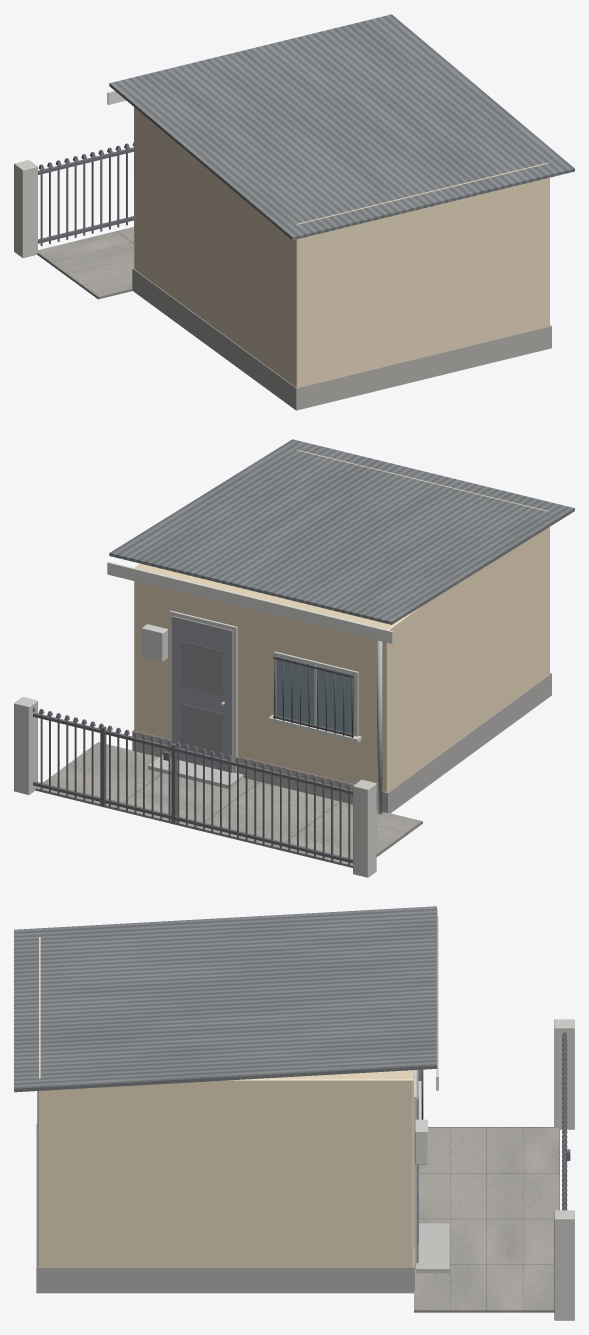
File: barrio.casa_humilde.fbx
3 renders of one model, top to bottom at view 1: azimuth 30°, elevation 25°; view 2: azimuth 150°, elevation 25°; view 3: azimuth 270°, elevation 25°, orthographic. The views are drawn at different scales.
Parts seen in each view (by area): view 1: Casa, Techo de zinc, Zocalo, Radier, Pilar.001; view 2: Casa, Techo de zinc, Radier, Zocalo, Puerta, Vidrio, Tapa del techo, Pilar.001, Pilar, Panel puerta.001, Panel puerta, Barra reja (+6 smaller); view 3: Casa, Techo de zinc, Radier, Zocalo, Pilar, Pilar.001, Peldano, Medidor de luz.
Part boxes in pixels (bbox=[...]): Casa: bbox=[134, 107, 549, 387]; Techo de zinc: bbox=[109, 14, 574, 240]; Zocalo: bbox=[132, 268, 551, 410]; Radier: bbox=[37, 227, 133, 299]; Pilar.001: bbox=[14, 160, 37, 257]; Casa: bbox=[134, 449, 549, 792]; Techo de zinc: bbox=[109, 439, 574, 624]; Radier: bbox=[35, 742, 422, 867]; Zocalo: bbox=[132, 673, 551, 813]; Puerta: bbox=[172, 616, 232, 772]; Vidrio: bbox=[276, 656, 354, 734]; Tapa del techo: bbox=[107, 562, 393, 643]; Pilar.001: bbox=[353, 779, 376, 877]; Pilar: bbox=[14, 697, 37, 794]; Panel puerta.001: bbox=[181, 641, 222, 695]; Panel puerta: bbox=[181, 703, 222, 758]; Barra reja: bbox=[33, 781, 352, 863]; Casa: bbox=[37, 937, 413, 1267]; Techo de zinc: bbox=[14, 906, 437, 1092]; Radier: bbox=[414, 1127, 559, 1312]; Zocalo: bbox=[36, 1123, 414, 1293]; Pilar: bbox=[554, 1210, 574, 1320]; Pilar.001: bbox=[554, 1019, 574, 1129]; Peldano: bbox=[416, 1223, 449, 1273]; Medidor de luz: bbox=[415, 1119, 427, 1164].
Size of the model in its own units: 5.02 by 2.77 by 5.96.
19 materials, 2 textured.
